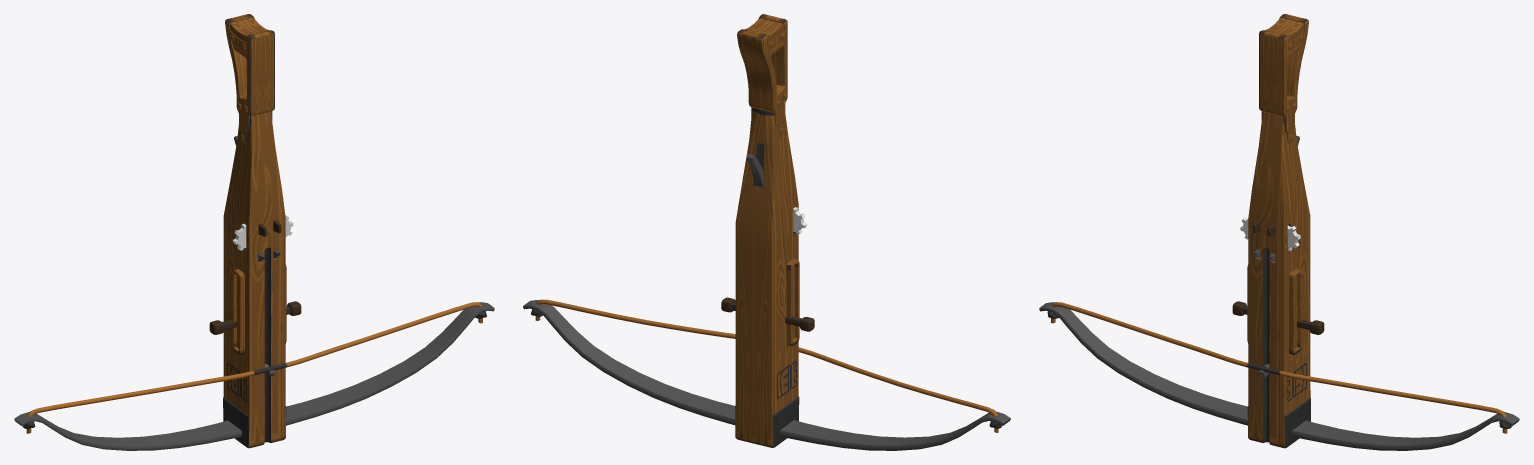
Rendered from hunter crossbow.glb.
3 renders of one model, left to right at view 1: azimuth 30°, elevation 25°; view 2: azimuth 150°, elevation 25°; view 3: azimuth 330°, elevation 25°, orthographic.
Visible parts, largest first — view 1: Crossbow #1136, Crossbow, Crossbow_Reload; view 2: Crossbow #1136, Crossbow, Crossbow_Reload; view 3: Crossbow #1136, Crossbow, Crossbow_Reload.
Part boxes in pixels (x1,y1,x2,y2): Crossbow #1136: (14,111,494,450); Crossbow: (225,14,286,354); Crossbow_Reload: (209,301,301,334); Crossbow #1136: (523,108,1010,450); Crossbow: (737,14,799,346); Crossbow_Reload: (721,297,814,331); Crossbow #1136: (1039,111,1519,450); Crossbow: (1247,14,1308,354); Crossbow_Reload: (1232,301,1324,334).
Size of the model in its own units: 0.817 by 0.6713 by 0.1078.
1 material, 1 textured.
